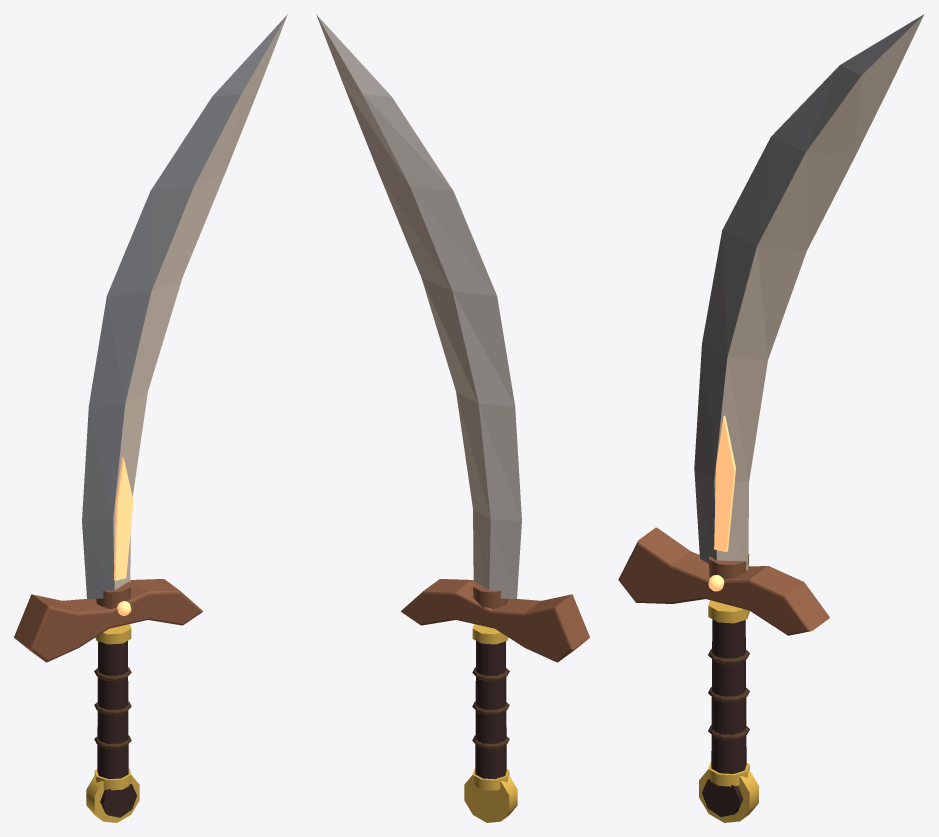
File: sword_f7_1cc907c1.glb
3 renders of one model, left to right at view 1: azimuth 30°, elevation 25°; view 2: azimuth 150°, elevation 25°; view 3: azimuth 330°, elevation 25°, orthographic. The views are drawn at different scales.
Visible parts, largest first — view 1: m0_ow80_, m3_ow80_, m4_ow80_, m6_ow80_, m1_, m5_ow80_; view 2: m0_ow80_, m3_ow80_, m4_ow80_, m6_ow80_, m5_ow80_; view 3: m0_ow80_, m3_ow80_, m4_ow80_, m6_ow80_, m1_, m5_ow80_.
Boxes of the visible parts, <box> form: m0_ow80_: <box>82,14,287,598</box>; m3_ow80_: <box>14,579,202,662</box>; m4_ow80_: <box>97,641,136,817</box>; m6_ow80_: <box>86,624,139,822</box>; m1_: <box>114,457,133,580</box>; m5_ow80_: <box>94,667,131,748</box>; m0_ow80_: <box>316,14,521,598</box>; m3_ow80_: <box>401,579,589,662</box>; m4_ow80_: <box>475,641,506,779</box>; m6_ow80_: <box>464,624,517,822</box>; m5_ow80_: <box>472,667,509,748</box>; m0_ow80_: <box>694,14,924,570</box>; m3_ow80_: <box>618,527,829,635</box>; m4_ow80_: <box>702,619,746,816</box>; m6_ow80_: <box>699,600,758,822</box>; m1_: <box>714,415,735,552</box>; m5_ow80_: <box>708,649,749,740</box>.
Bounding box in the file's own units: 0.7372 × 2.02 × 0.1179.
